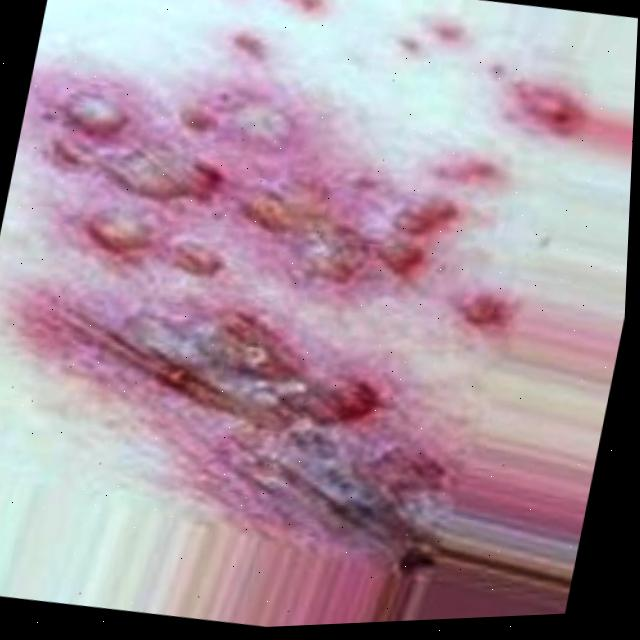Shingles: (0, 41, 549, 586), (511, 78, 583, 132)
